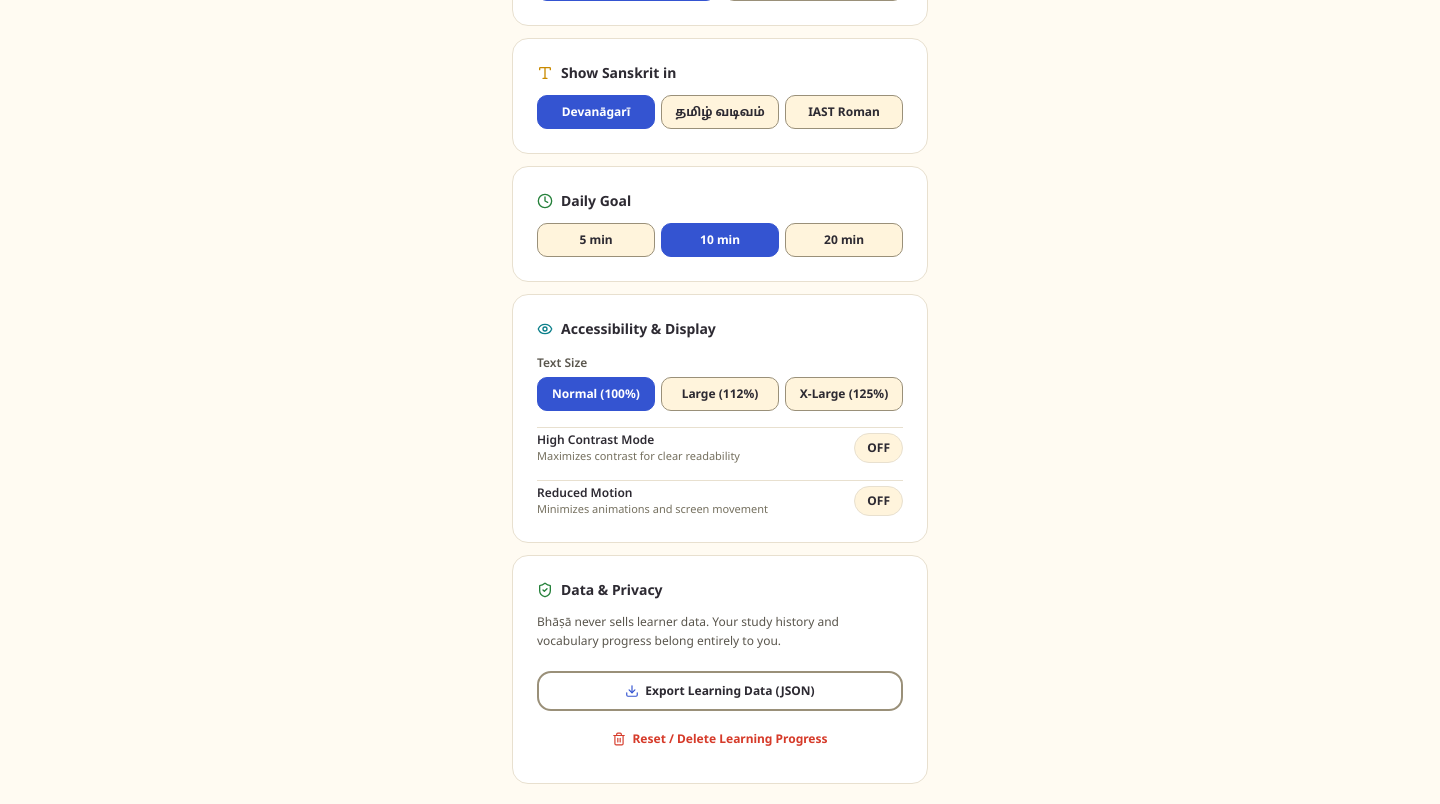
Test case: Accessibility and Settings in Me Page › toggles high contrast mode and updates document attribute
(page scrolled)
Click the button with test id "high-contrast-toggle" at (879, 448), box [854, 433, 903, 463]
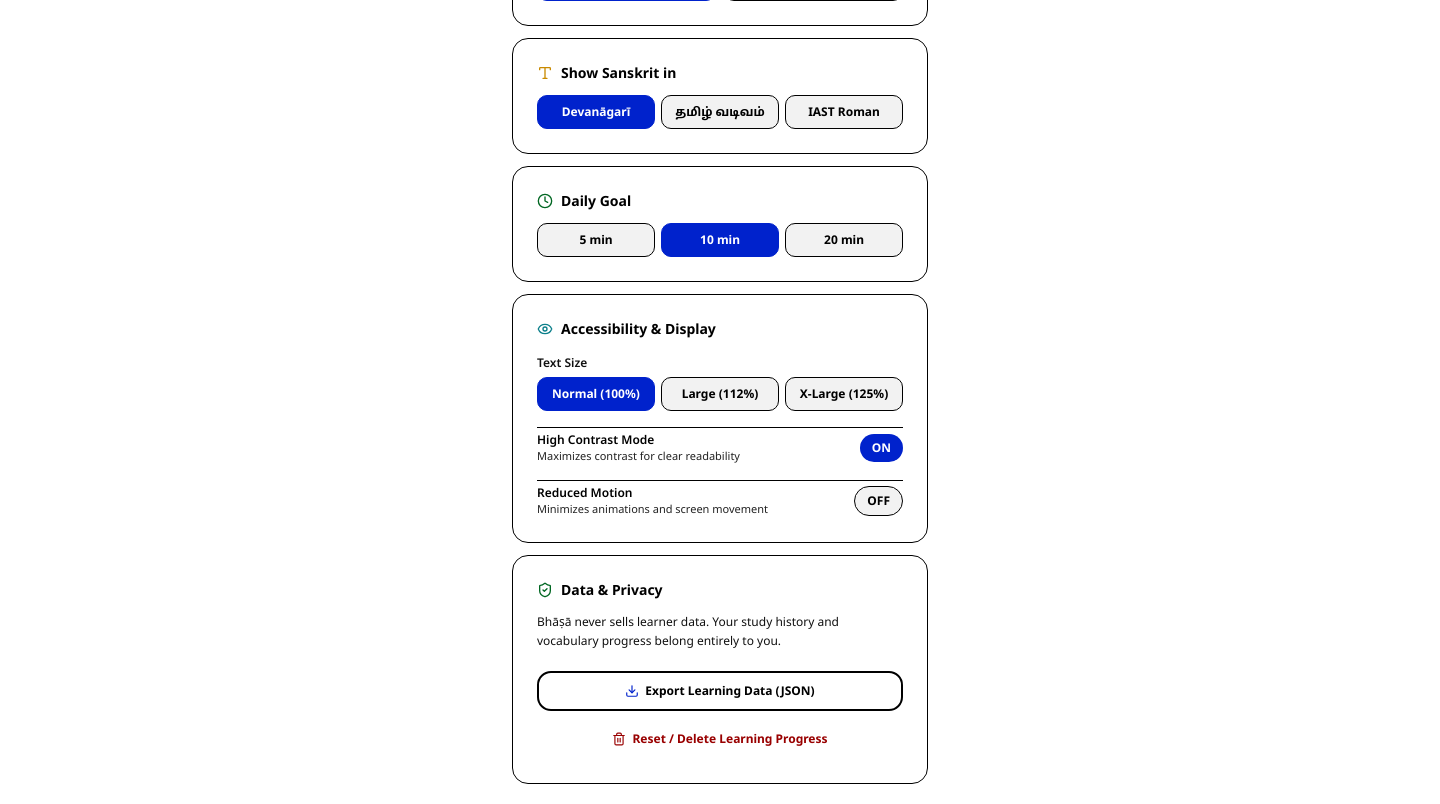
Now the button with test id "high-contrast-toggle" reads "ON"
Click the button with test id "high-contrast-toggle" at (881, 448), box [860, 434, 903, 462]
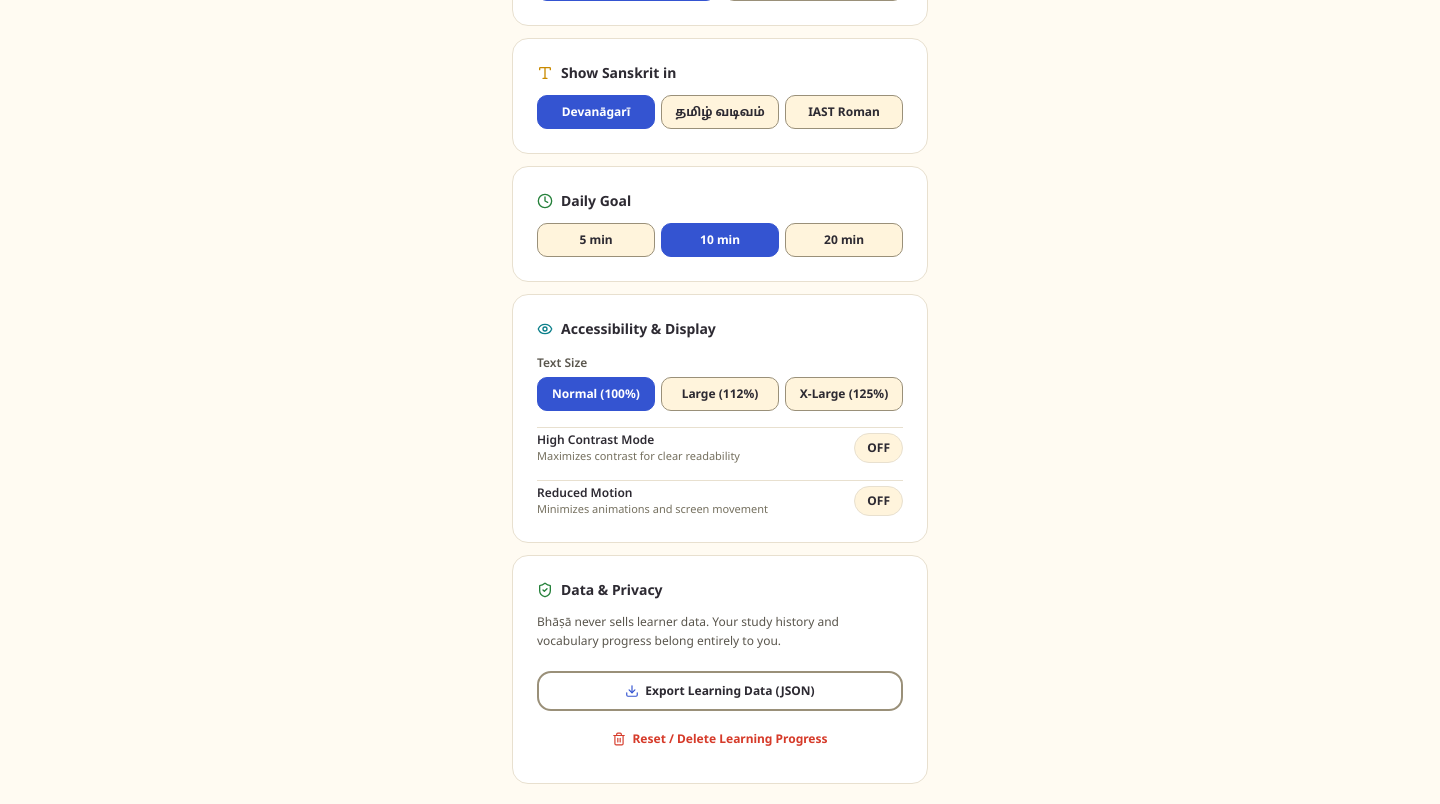
Now the button with test id "high-contrast-toggle" reads "OFF", box [854, 433, 903, 463]
